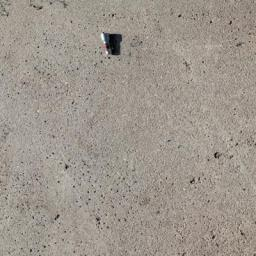FOD: (101, 30, 125, 61)
